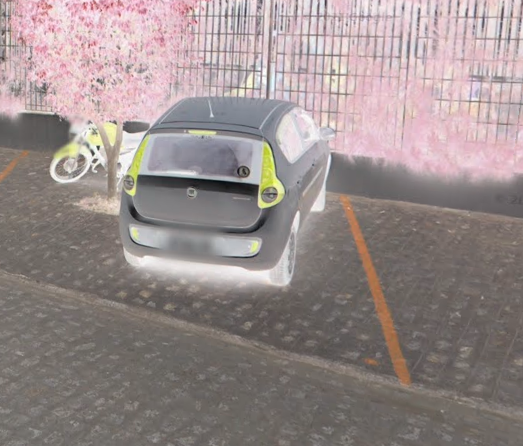car: (113, 92, 341, 290)
